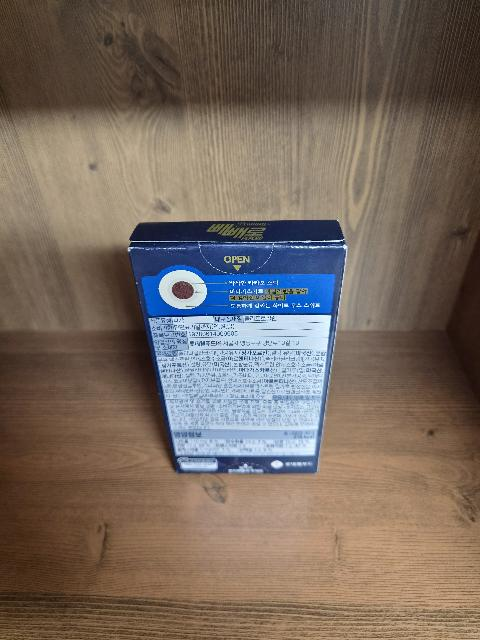pepero: (127, 219, 348, 474)
